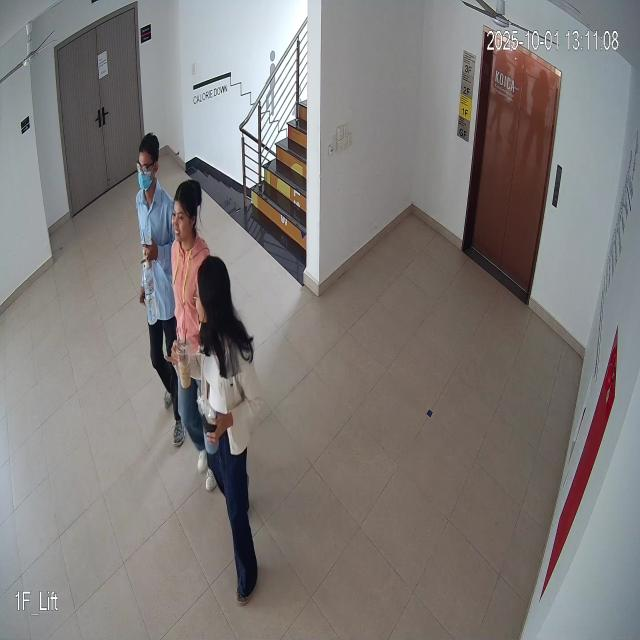face: (171, 175, 206, 250)
